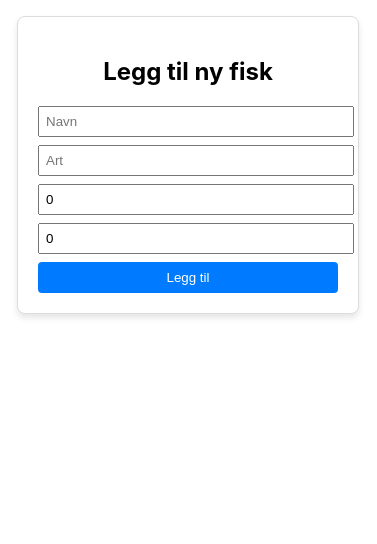
Test: FishForm › shows error if submitting empty
The image size is (377, 544).
Click the button "Legg til" at (188, 277), box [38, 262, 338, 293]
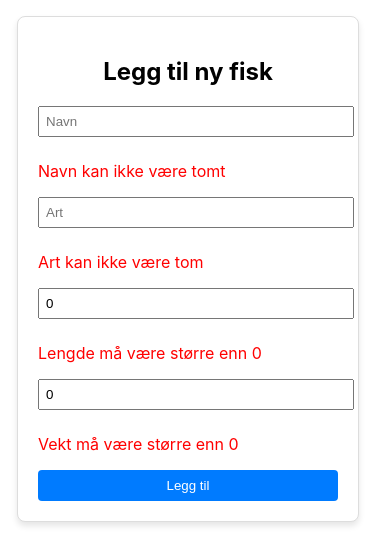
Now the text "Navn kan ikke være tomt" is shown, box [38, 161, 226, 181]
